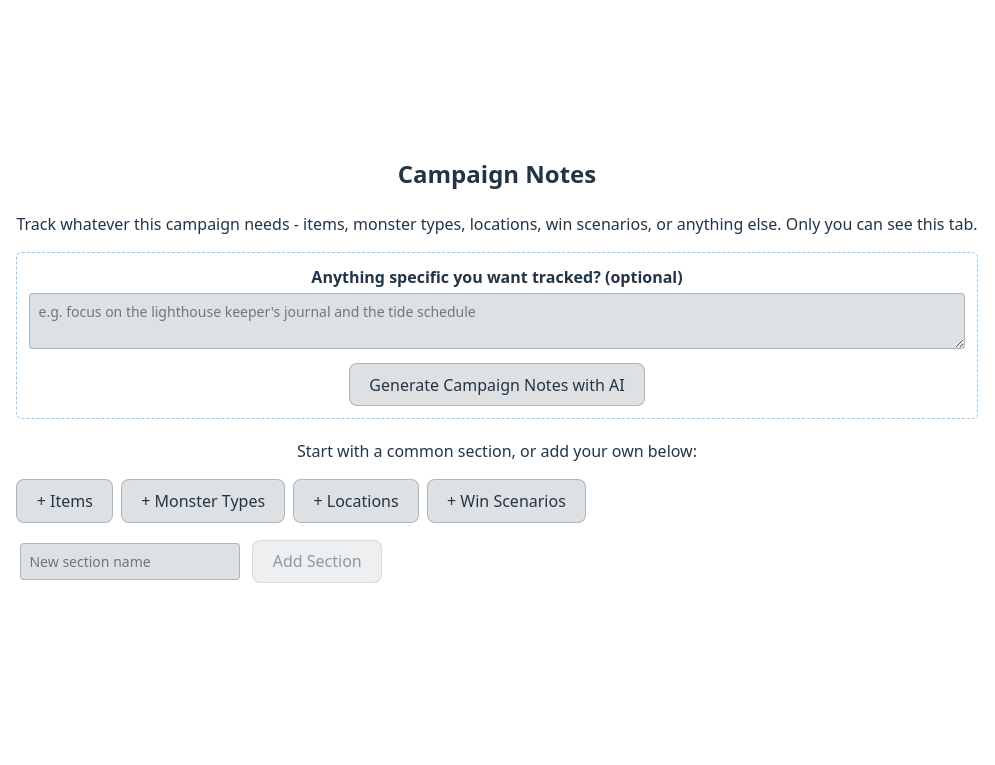
CampaignNotes › drafts sections (with details) and accepts one as a real section
The image size is (995, 765).
Click the button "Generate Campaign Notes with AI" at {"x": 497, "y": 385}, box [349,363,645,406]
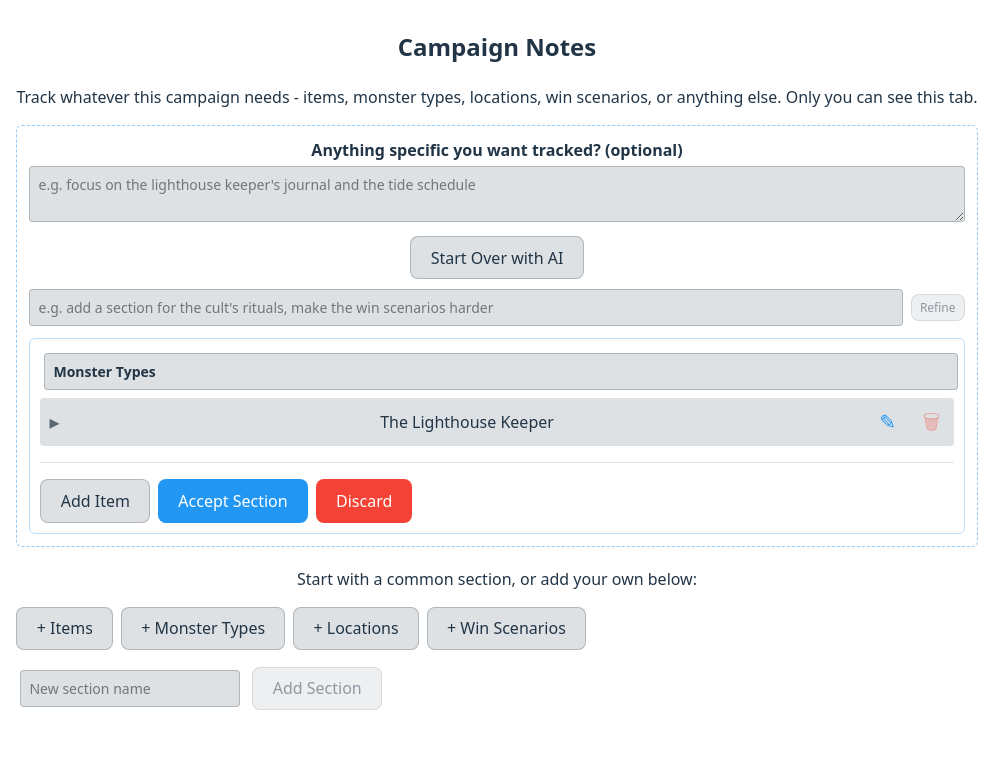
Check: the field showing "Weak to sunlight" is not shown
Check: the field showing "Monster Types" is shown, box [44,353,958,390]
Check: the text "The Lighthouse Keeper" is shown
Click the text "The Lighthouse Keeper" at {"x": 467, "y": 422}, box [380,411,554,433]
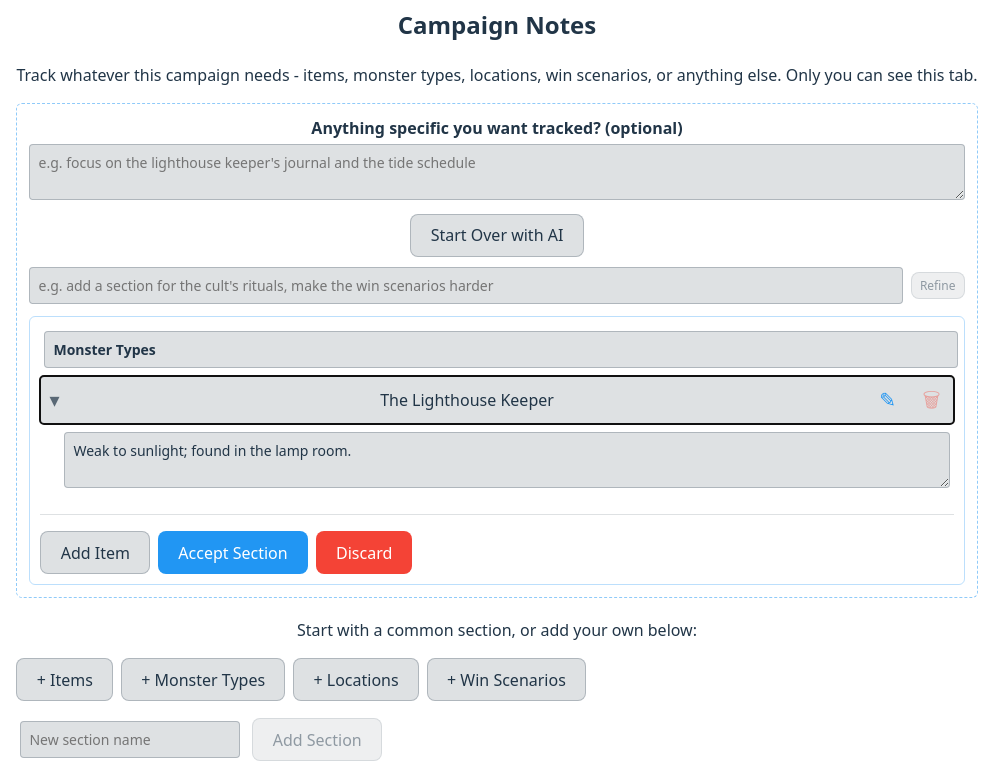
Check: the text box showing "Weak to sunlight; found in the lamp room." is shown, box [64,432,950,488]
Click the button "Accept Section" at {"x": 233, "y": 553}, box [158,531,308,574]
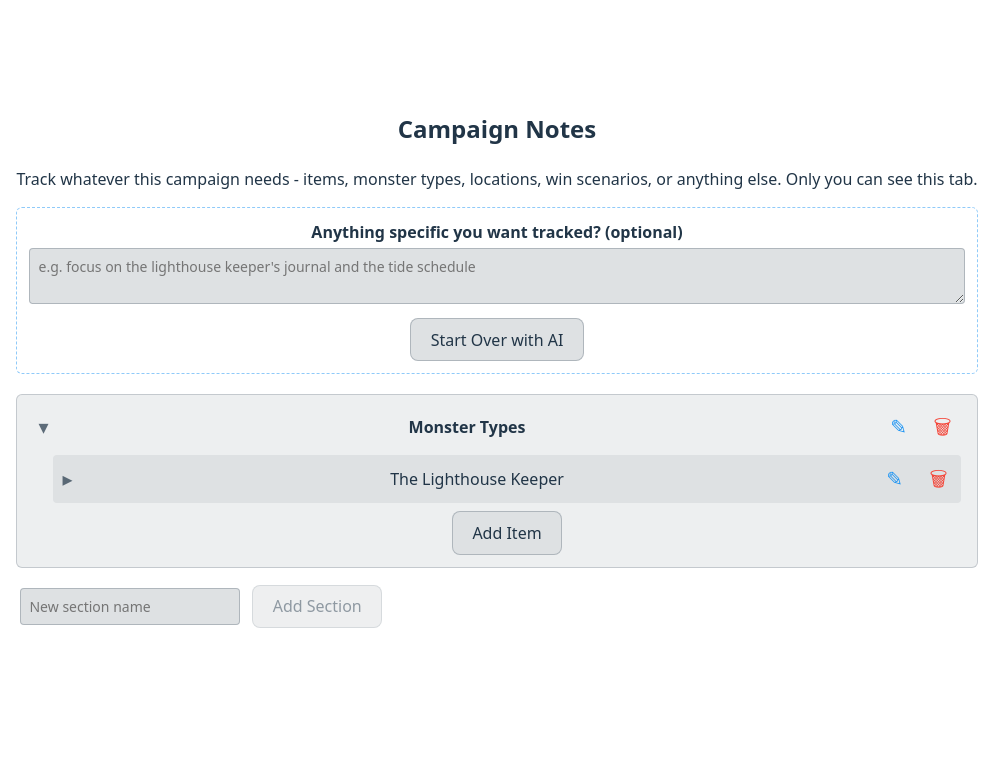
Check: the text "Monster Types" is shown, box [409,416,526,438]
Check: the text "The Lighthouse Keeper" is shown
Click the text "The Lighthouse Keeper" at {"x": 477, "y": 479}, box [390,468,564,490]
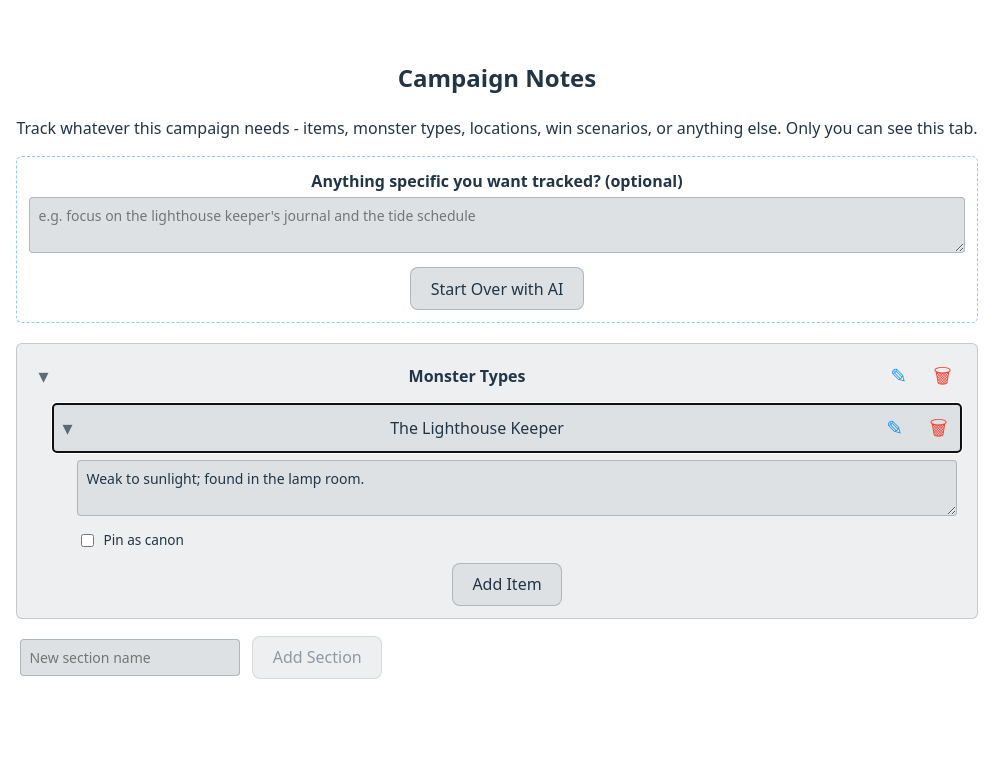
Check: the text box showing "Weak to sunlight; found in the lamp room." is shown, box [78,460,956,516]
